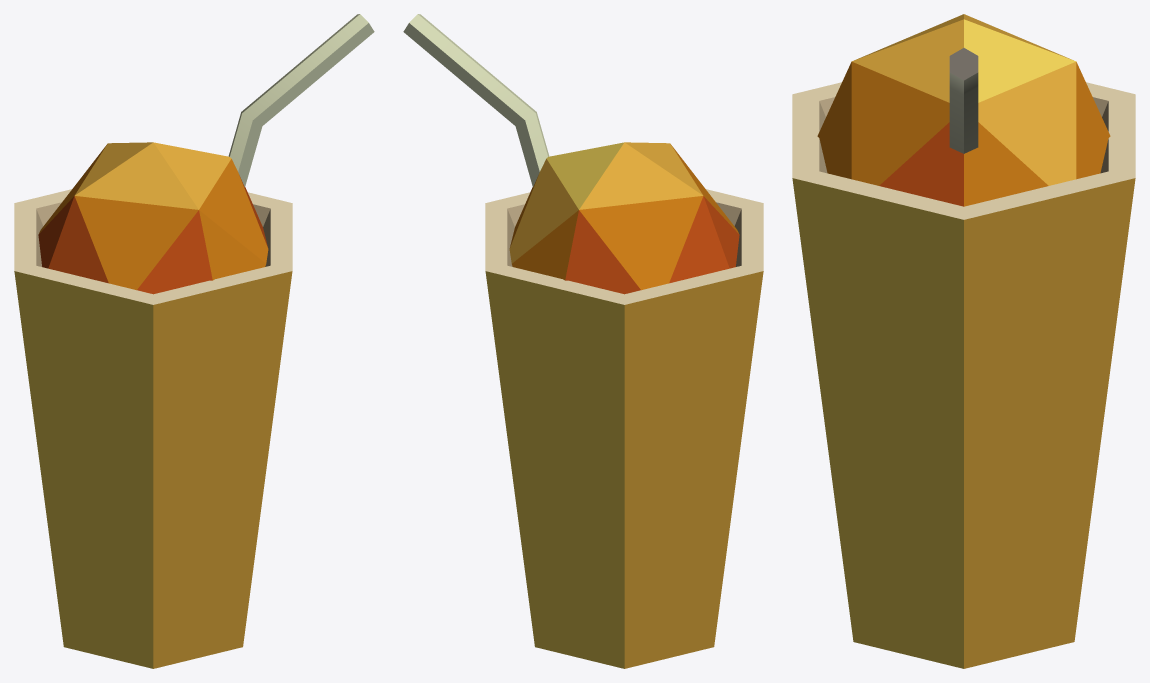
File: Vaso_2.FBX
The picture shows the model from 3 angles, left to right: view 1: azimuth 30°, elevation 25°; view 2: azimuth 150°, elevation 25°; view 3: azimuth 270°, elevation 25°; orthographic projection. The views are drawn at different scales.
Parts seen in each view (by area): view 1: Vaso_Amarillo; view 2: Vaso_Amarillo; view 3: Vaso_Amarillo.
Part boxes in pixels (x1,y1,x2,y2): Vaso_Amarillo: (14, 14, 374, 668); Vaso_Amarillo: (403, 14, 763, 668); Vaso_Amarillo: (792, 14, 1135, 668).
Size of the model in its own units: 38.54 by 57.79 by 25.98.
